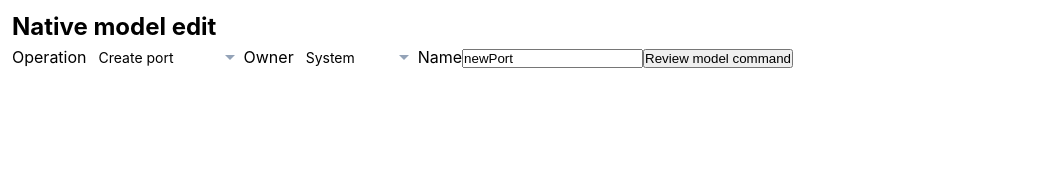
NativeCommandEditor › builds a typed interconnection command without writing source
Select "Connect elements" in the dropdown labelled "Operation" at point(165, 58), box x1=86 y1=41 x2=244 y2=74
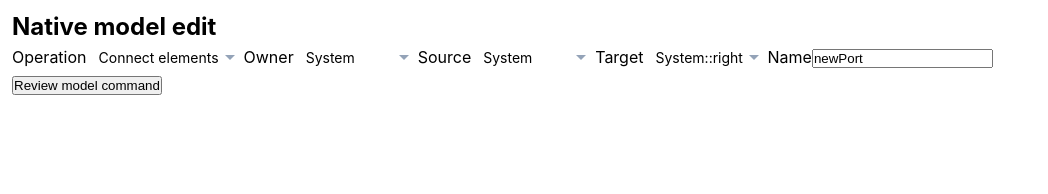
Replace the text in the field labelled "Name" with "commandLink" at point(902, 58), box x1=812 y1=49 x2=993 y2=68
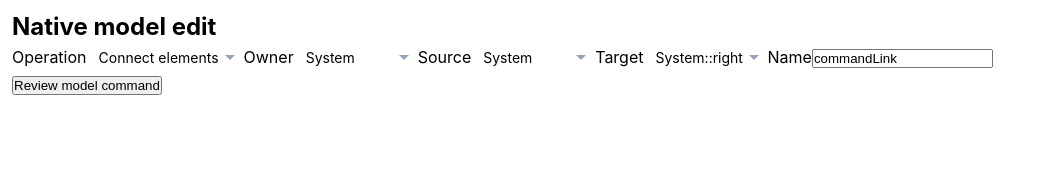
Click the button "Review model command".
click(87, 86)  # box x1=12 y1=76 x2=162 y2=95
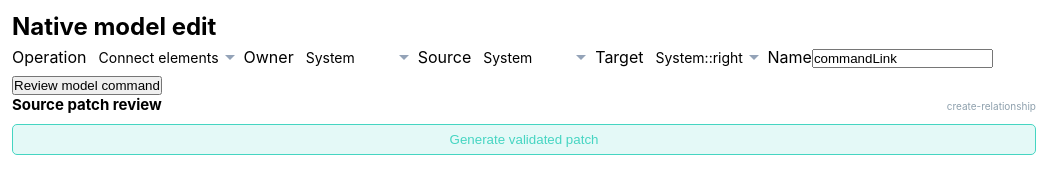
Click the button "Generate validated patch".
click(524, 140)  # box x1=12 y1=124 x2=1036 y2=155
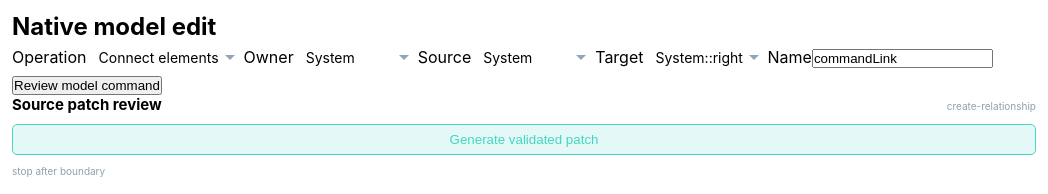
expect the message reads "stop after boundary": met, box x1=12 y1=165 x2=105 y2=177
